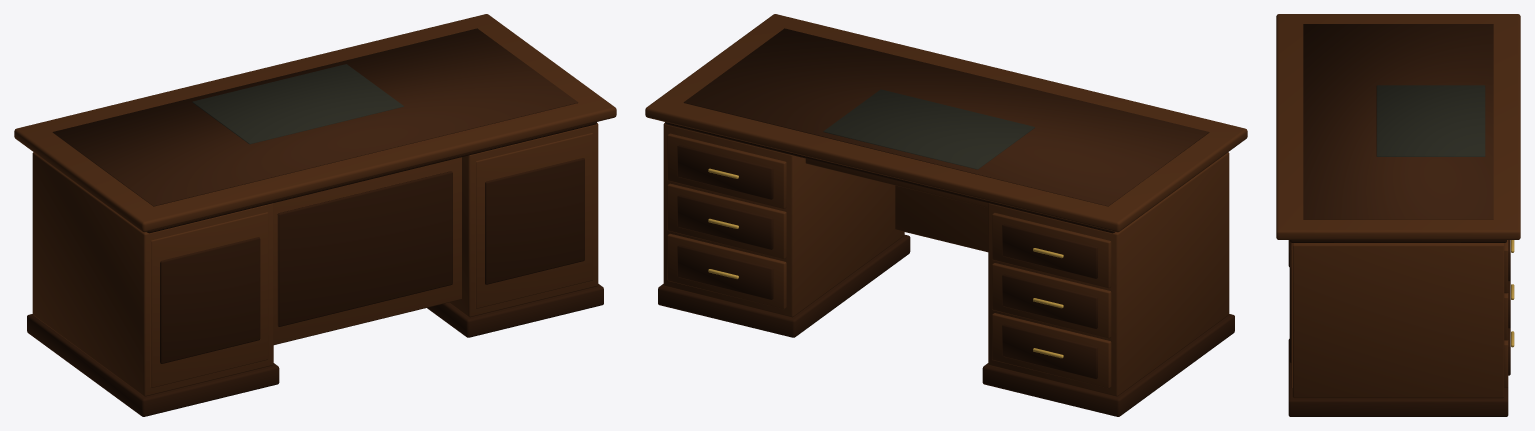
The model's file is frank_desk.glb.
3 renders of one model, left to right at view 1: azimuth 30°, elevation 25°; view 2: azimuth 150°, elevation 25°; view 3: azimuth 270°, elevation 25°, orthographic. The views are drawn at different scales.
Parts seen in each view (by area): view 1: Desk_DeskWalnut, Desk_DeskWalnutDark, Desk_DeskInlay, Desk_DeskBlotter; view 2: Desk_DeskWalnut, Desk_DeskInlay, Desk_DeskWalnutDark, Desk_DeskBlotter, Desk_DeskBrass; view 3: Desk_DeskWalnut, Desk_DeskInlay, Desk_DeskBlotter, Desk_DeskWalnutDark.
Boxes of the visible parts, left/top/right/bottom form: Desk_DeskWalnut: left=14, top=14, right=616, bottom=396; Desk_DeskWalnutDark: left=27, top=122, right=603, bottom=416; Desk_DeskInlay: left=52, top=28, right=578, bottom=206; Desk_DeskBlotter: left=192, top=64, right=403, bottom=144; Desk_DeskWalnut: left=645, top=14, right=1247, bottom=396; Desk_DeskInlay: left=683, top=28, right=1209, bottom=206; Desk_DeskWalnutDark: left=658, top=122, right=1234, bottom=416; Desk_DeskBlotter: left=823, top=89, right=1034, bottom=169; Desk_DeskBrass: left=708, top=168, right=1063, bottom=358; Desk_DeskWalnut: left=1276, top=14, right=1520, bottom=398; Desk_DeskInlay: left=1303, top=24, right=1493, bottom=219; Desk_DeskBlotter: left=1376, top=85, right=1485, bottom=156; Desk_DeskWalnutDark: left=1288, top=240, right=1510, bottom=416.
Bounding box in the file's own units: 1.9 × 0.776 × 0.9.
